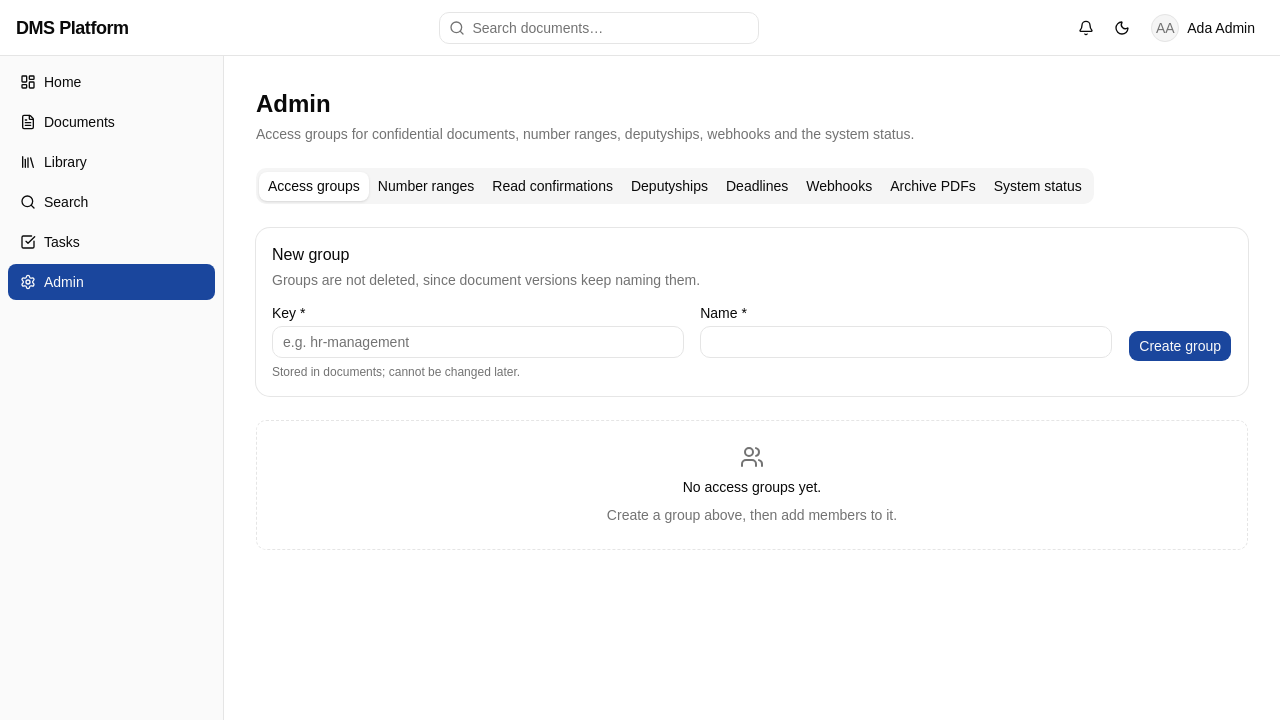
Test: admin: number ranges (DMS-113) › numbers the existing documents of a class after confirmation and summarizes (DMS-116)
Click the tab "Number ranges".
click(426, 186)  # box [369,172,483,200]
(page scrolled)
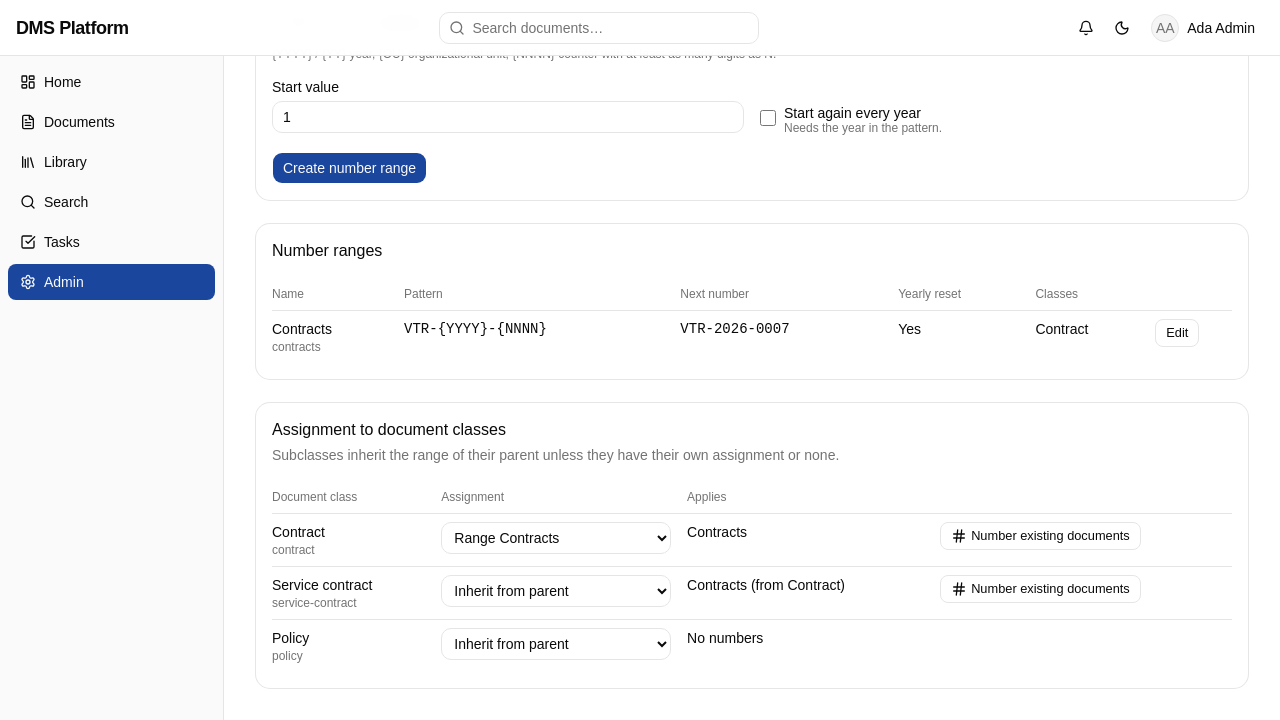
expect the table named "Document classes and their number range" is shown: met, box [272,481,1232,672]
Click the button with aria-label "Number the existing documents of Contract".
click(1040, 536)  # box [940,522,1141,550]
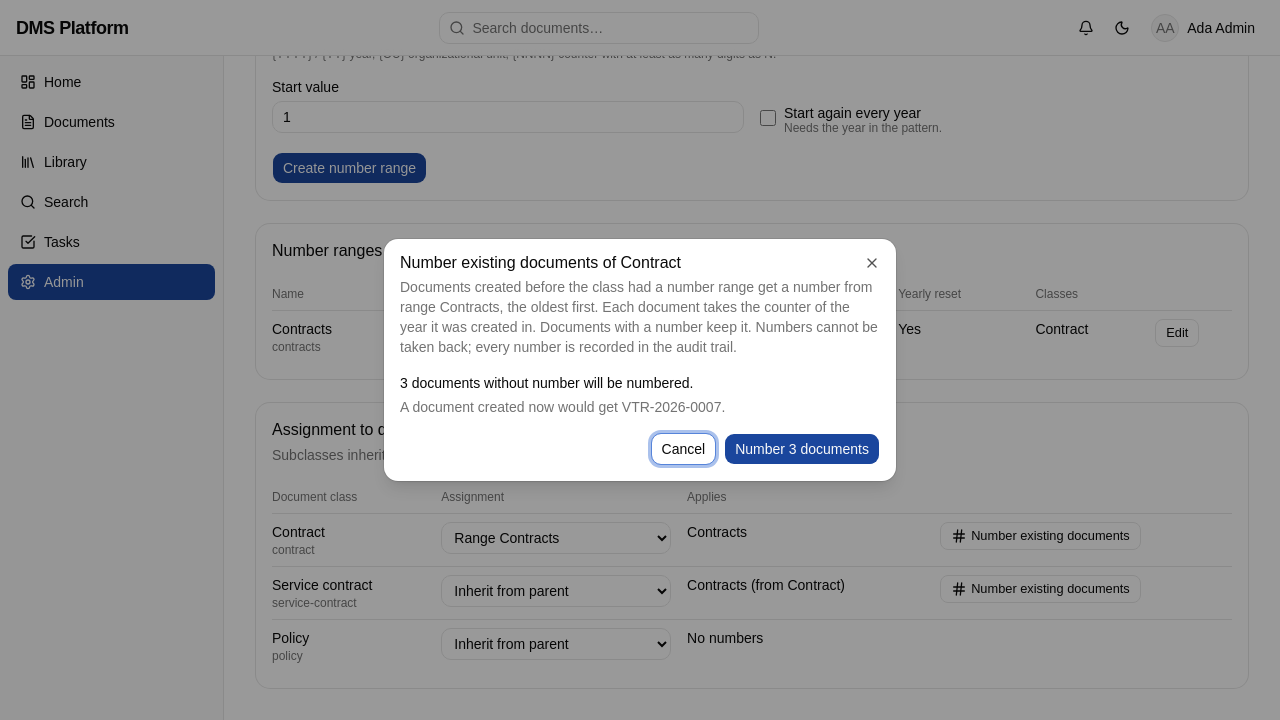
expect the heading "Number existing documents of Contract" is shown: met, box [400,254,681,271]
expect the text "from range Contracts, the oldest first" is shown: met, box [400,279,878,355]
expect the text "3 documents without number will be numbered." is shown: met, box [400,375,693,391]
Click the button "Number 3 documents".
click(802, 449)  # box [724,433,880,465]
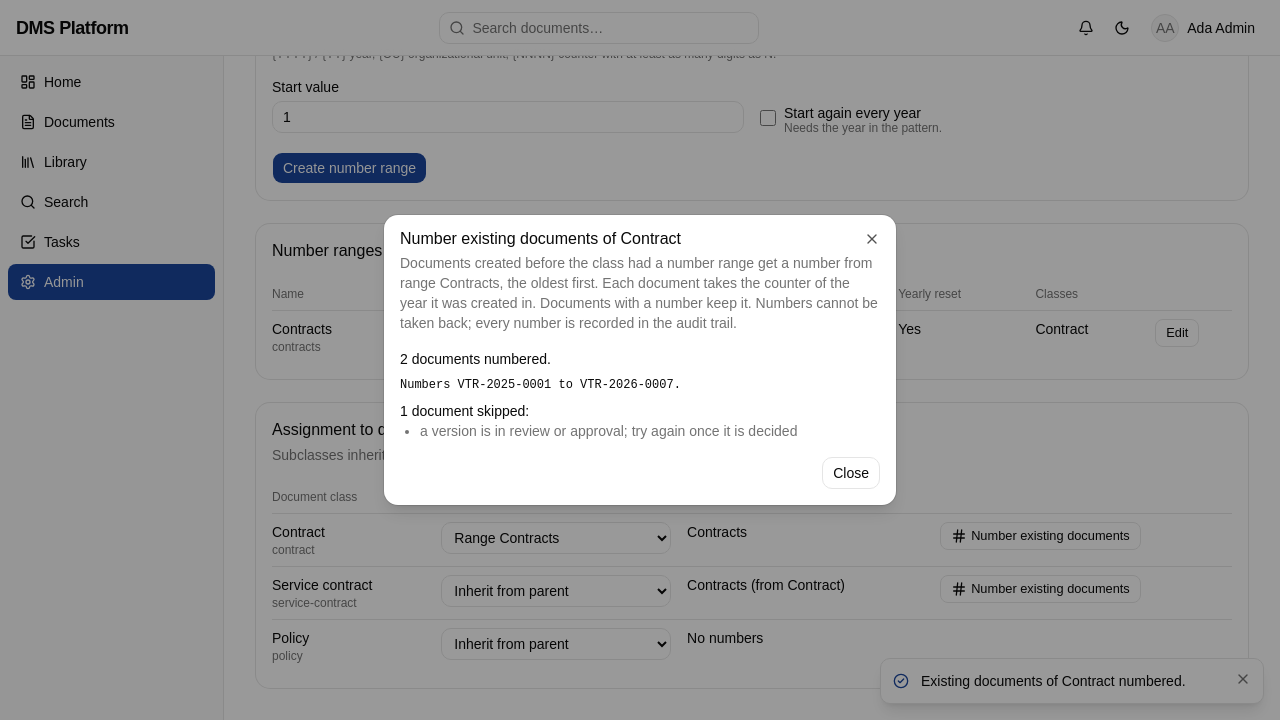
expect the message with test id "backfill-result" shows "2 documents numbered.": met, box [400,351,551,367]
expect the message with test id "backfill-result" shows "Numbers VTR-2025-0001 to VTR-2026-0007.": met, box [400,378,681,392]
expect the message with test id "backfill-result" shows "1 document skipped:": met, box [400,403,529,419]
Click the button "Close".
click(851, 473)  # box [822,457,880,489]
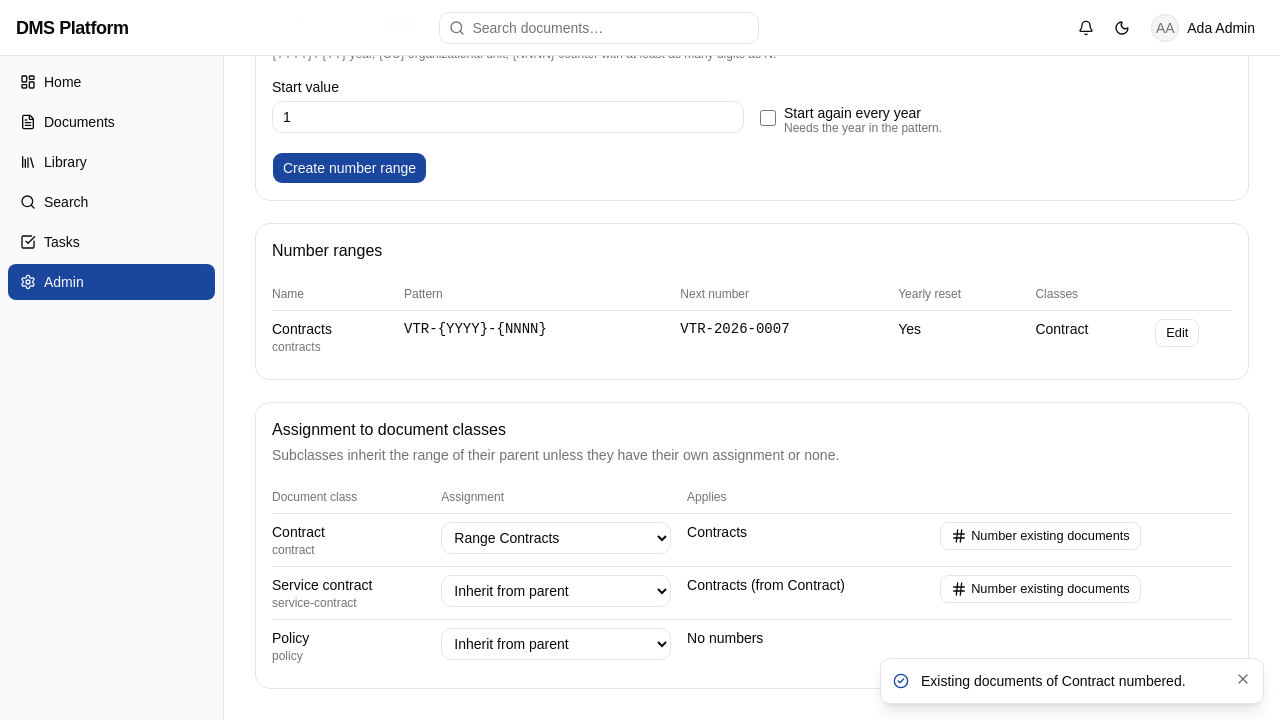
expect the dialog is gone: met
